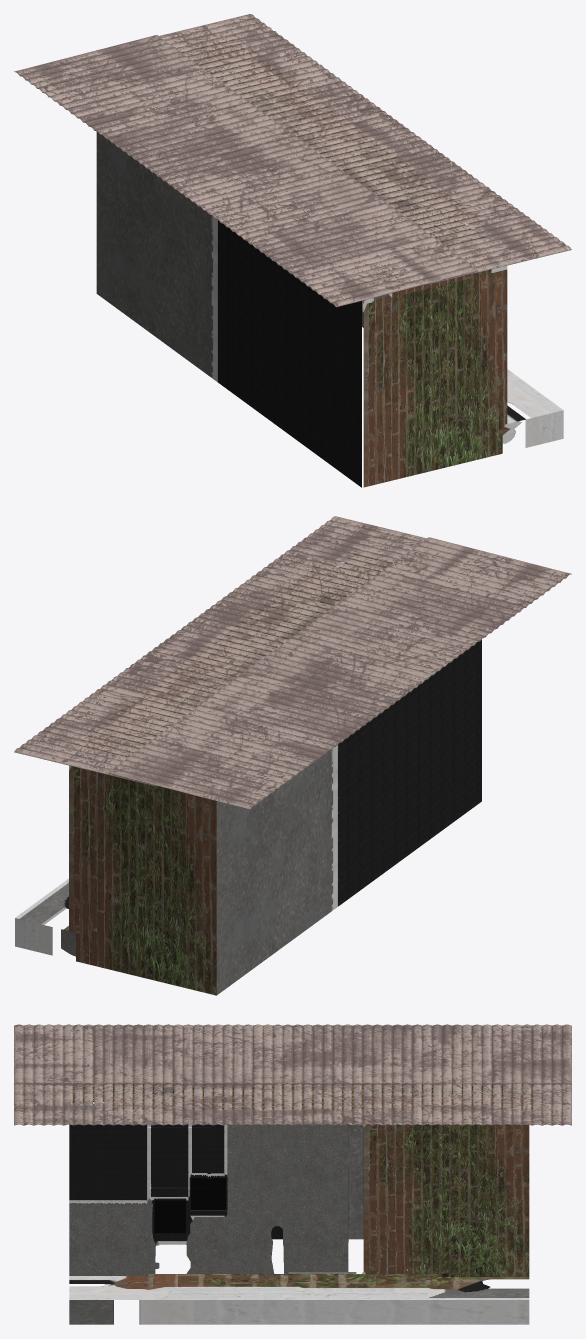
Rendered from casa_derecha_17.fbx.
3 views of the same model, one above another, from view 1: azimuth 30°, elevation 25°; view 2: azimuth 150°, elevation 25°; view 3: azimuth 270°, elevation 25° (orthographic). The views are drawn at different scales.
Visible parts, largest first — view 1: casa_derecja_17A, Techo 17; view 2: casa_derecja_17A, Techo 17; view 3: casa_derecja_17A, Techo 17.
Part boxes in pixels (x1,y1,x2,y2): casa_derecja_17A: [96, 39, 563, 487]; Techo 17: [14, 14, 571, 307]; casa_derecja_17A: [15, 550, 481, 995]; Techo 17: [14, 516, 571, 809]; casa_derecja_17A: [69, 1084, 532, 1324]; Techo 17: [14, 1024, 571, 1125].
Size of the model in its own units: 423 by 345 by 908.
